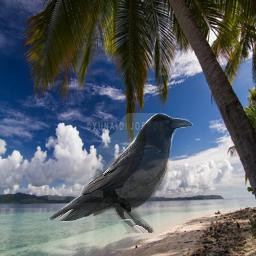Crow: (48, 113, 193, 233)
